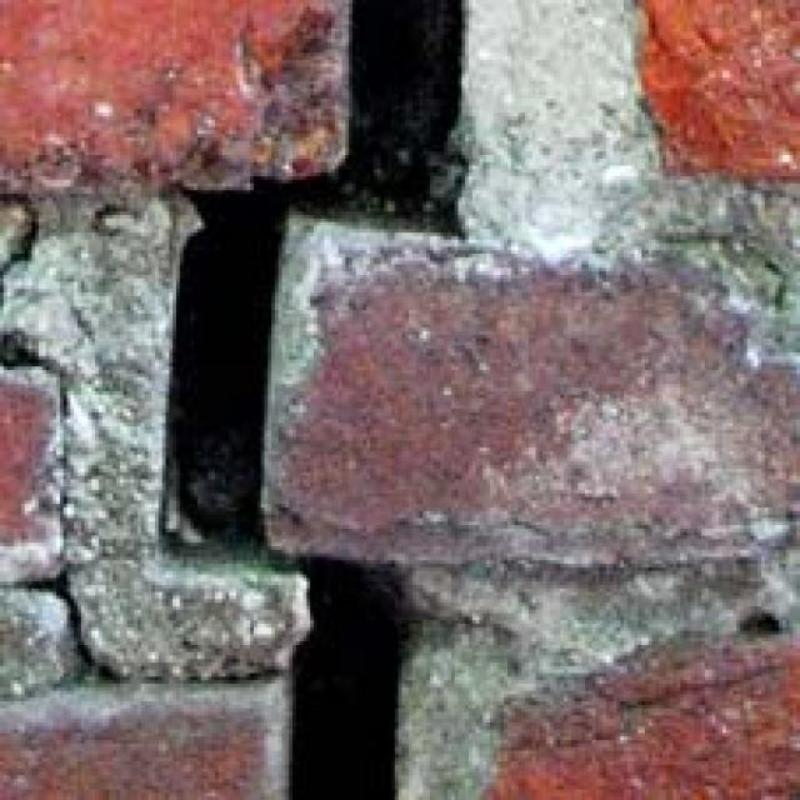pothole: (170, 0, 461, 548), (291, 556, 402, 800), (11, 570, 112, 676)
